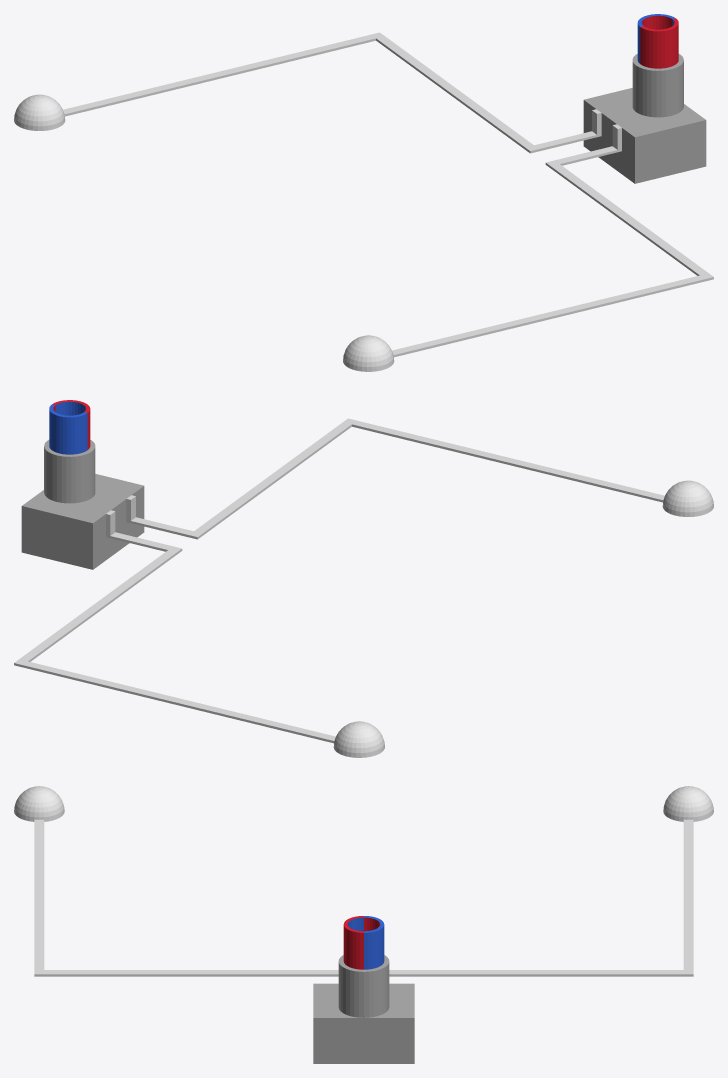
File: Canon.fbx
The picture shows the model from 3 angles, top to bottom: view 1: azimuth 30°, elevation 25°; view 2: azimuth 150°, elevation 25°; view 3: azimuth 270°, elevation 25°; orthographic projection.
Visible parts, largest first — view 1: Base, PipeBottom, RLine3, LLine3, PipeEnd, RLine2, LLine2, RForceField, LForceField; view 2: Base, PipeBottom, LLine3, RLine3, PipeEnd, LLine2, RLine2, LForceField, RForceField; view 3: Base, PipeBottom, LLine2, RLine2, PipeEnd, LLine3, RLine3, LForceField, RForceField.
Part boxes in pixels (left/top/right/bottom): Base: left=583, top=88, right=706, bottom=183; PipeBottom: left=632, top=54, right=683, bottom=117; RLine3: left=392, top=275, right=704, bottom=357; LLine3: left=63, top=34, right=375, bottom=116; PipeEnd: left=637, top=14, right=678, bottom=68; RLine2: left=551, top=164, right=713, bottom=281; LLine2: left=371, top=32, right=533, bottom=149; RForceField: left=343, top=335, right=394, bottom=371; LForceField: left=14, top=94, right=65, bottom=130; Base: left=21, top=474, right=144, bottom=569; PipeBottom: left=44, top=440, right=95, bottom=503; LLine3: left=23, top=661, right=335, bottom=743; RLine3: left=352, top=420, right=664, bottom=502; PipeEnd: left=49, top=400, right=90, bottom=454; LLine2: left=14, top=550, right=176, bottom=667; RLine2: left=194, top=418, right=356, bottom=535; LForceField: left=333, top=721, right=384, bottom=757; RForceField: left=662, top=480, right=713, bottom=516; Base: left=313, top=983, right=414, bottom=1063; PipeBottom: left=338, top=955, right=389, bottom=1017; LLine2: left=389, top=970, right=693, bottom=976; RLine2: left=34, top=970, right=338, bottom=976; PipeEnd: left=343, top=916, right=384, bottom=969; LLine3: left=683, top=819, right=693, bottom=969; RLine3: left=34, top=819, right=44, bottom=969; LForceField: left=663, top=786, right=713, bottom=821; RForceField: left=14, top=786, right=64, bottom=821.
Bounding box in the file's own units: 1120 × 280 × 1380.
